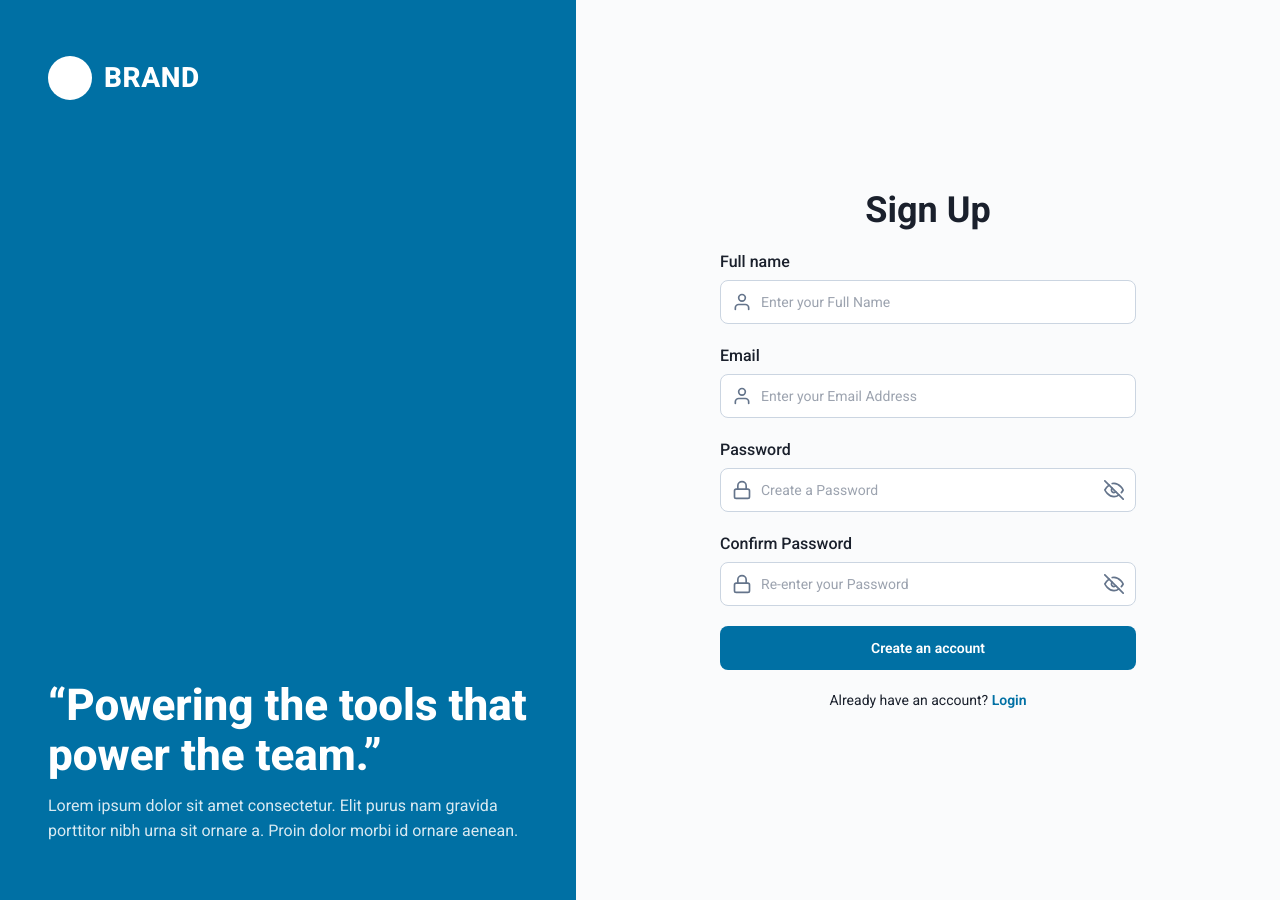
Test: RegisterPage password match › enforces minimum password length
In the field with test id "signup-name": (928, 302) [720,280,1136,324], type "Sara John"
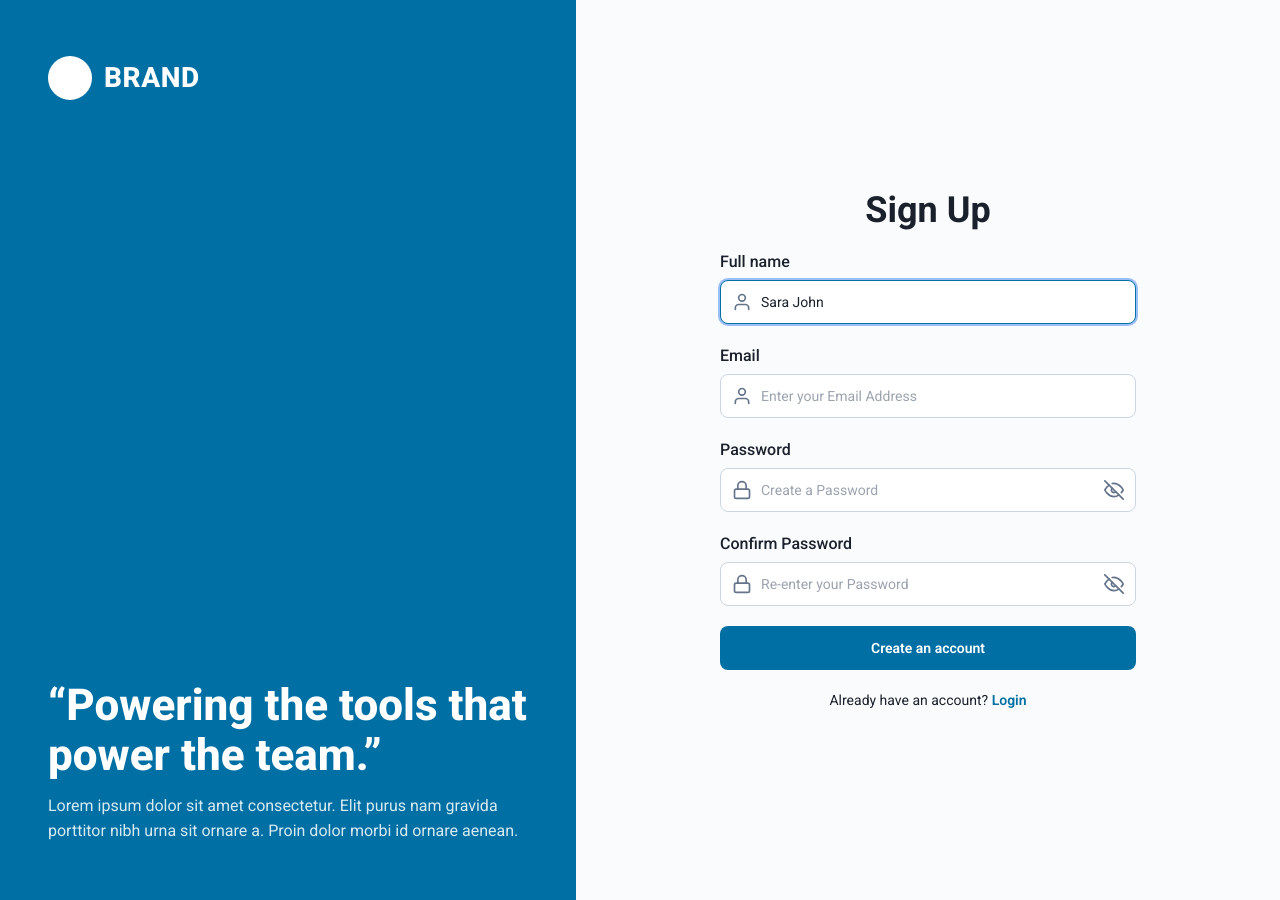
In the field with test id "signup-email": (928, 396) [720,374,1136,418], type "sara@example.com"
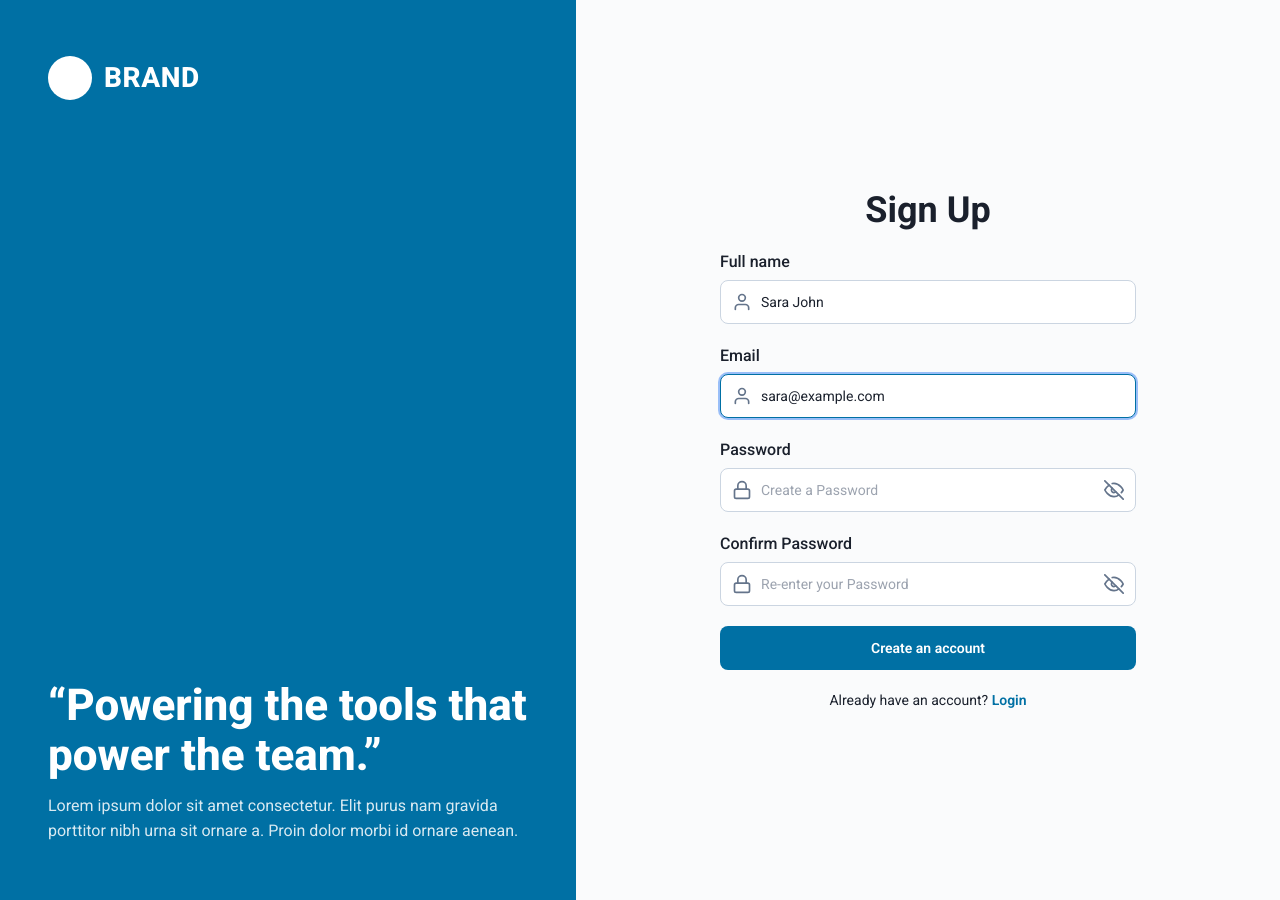
In the password field with test id "signup-password": (928, 490) [720,468,1136,512], type "short"
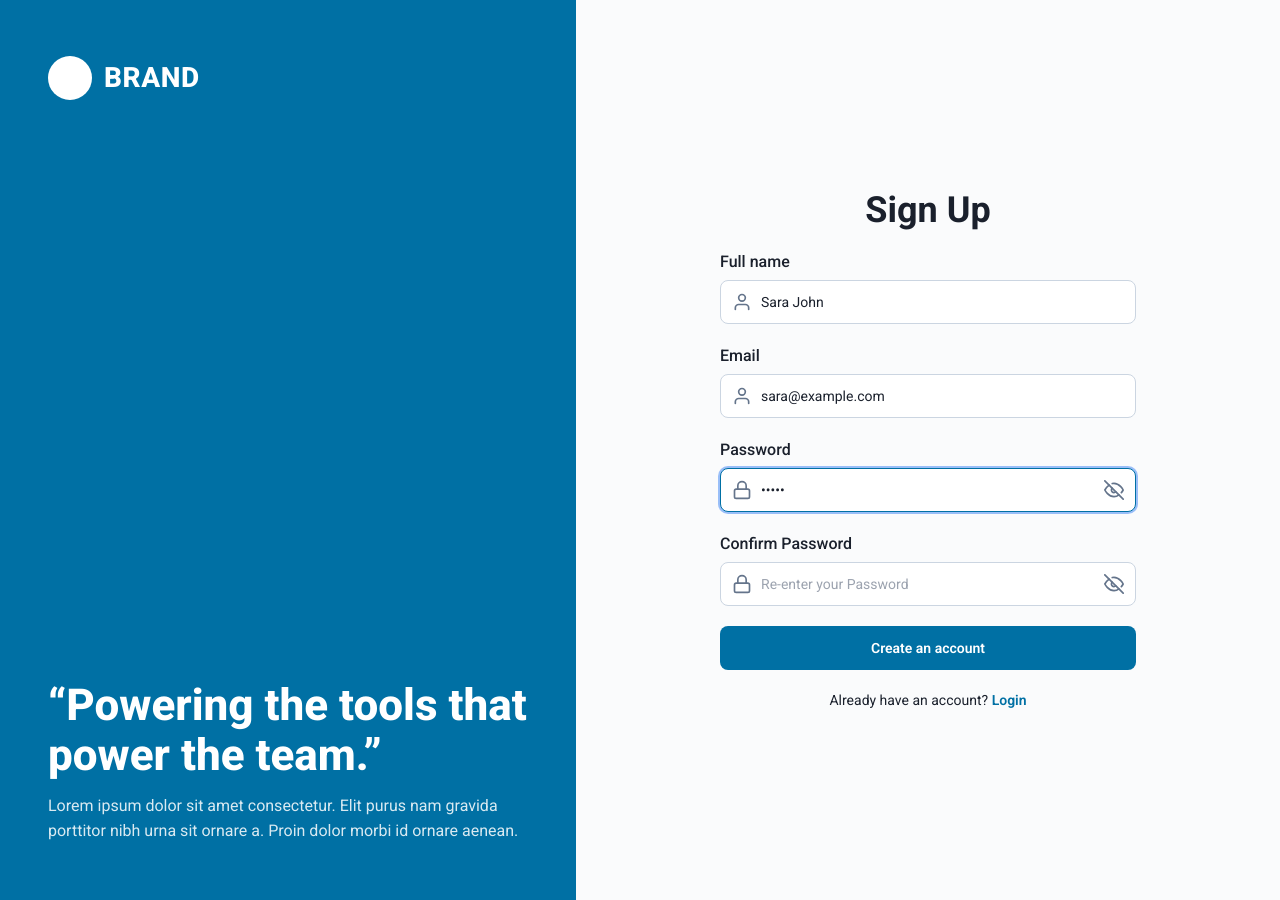
In the password field with test id "signup-confirm-password": (928, 584) [720,562,1136,606], type "short"
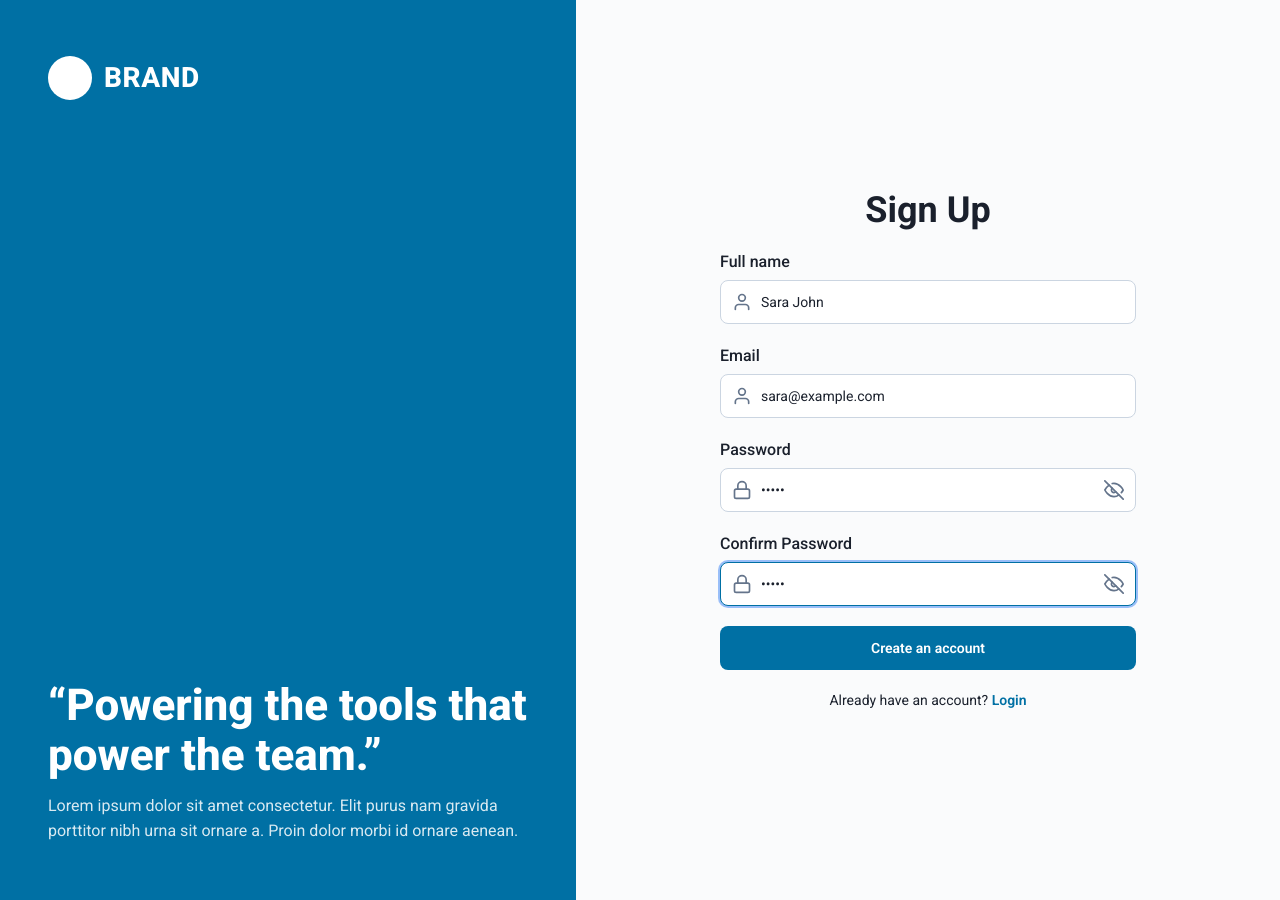
Click the button with test id "signup-submit": (928, 648) [720,626,1136,670]
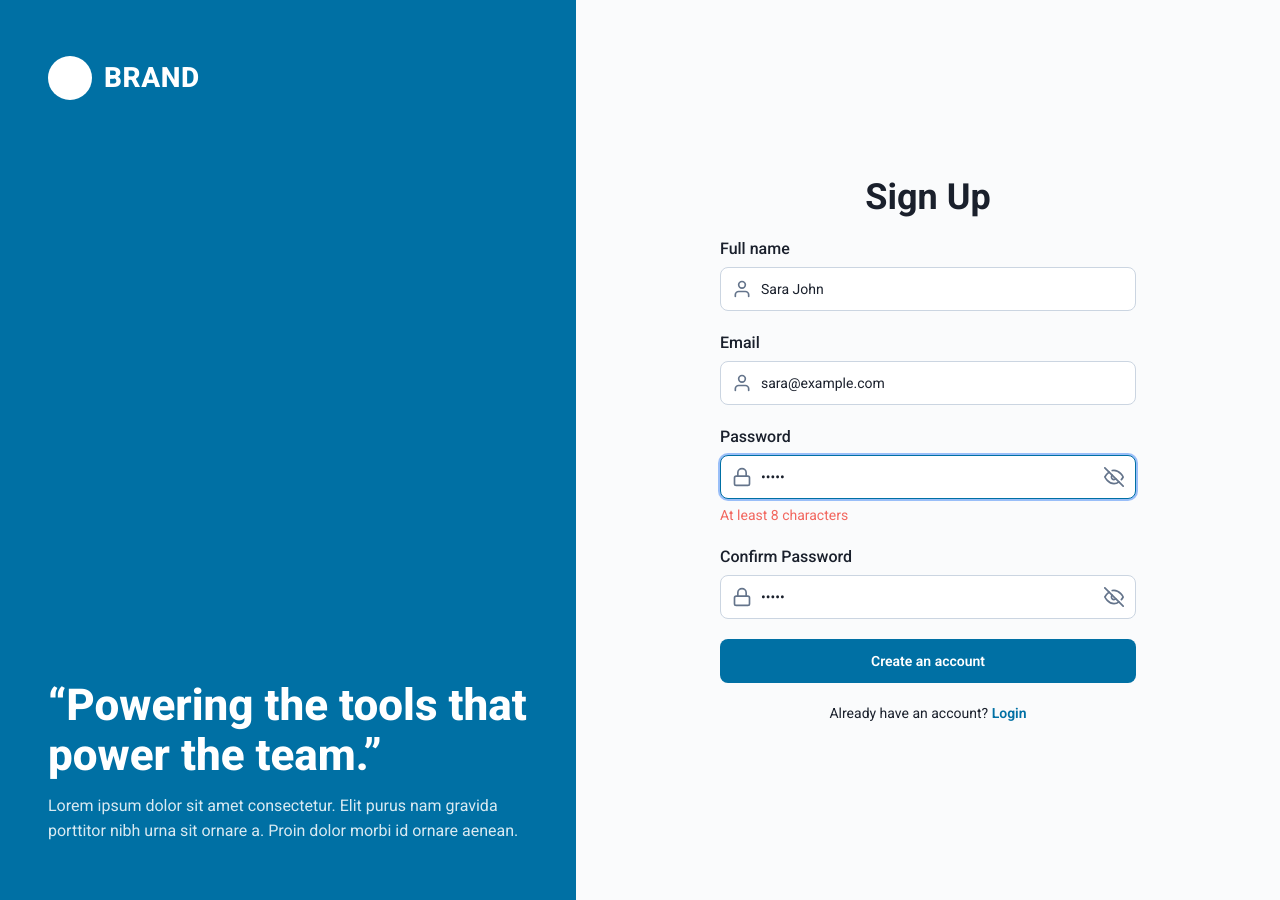
Expected: the text with test id "signup-password-error" shows "8 characters", [720,507,848,523]
